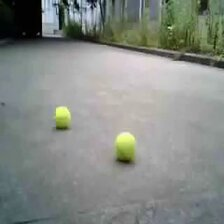tennis: (116, 132, 136, 160), (54, 106, 73, 127)
